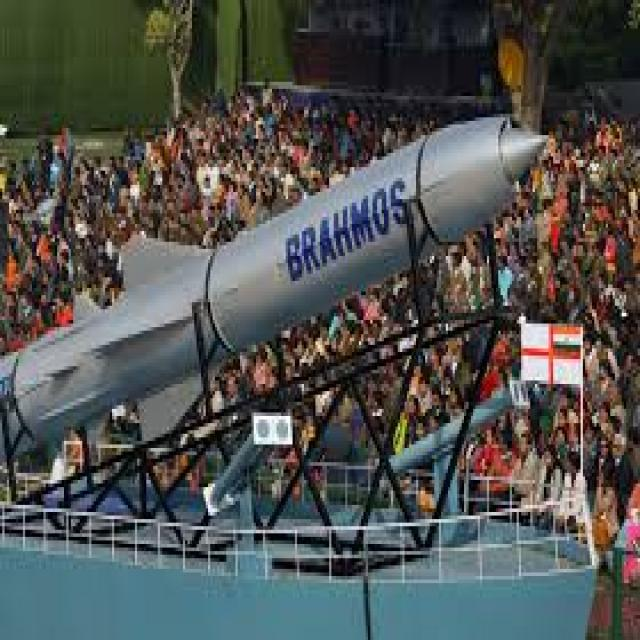rocket: (8, 116, 550, 450)
